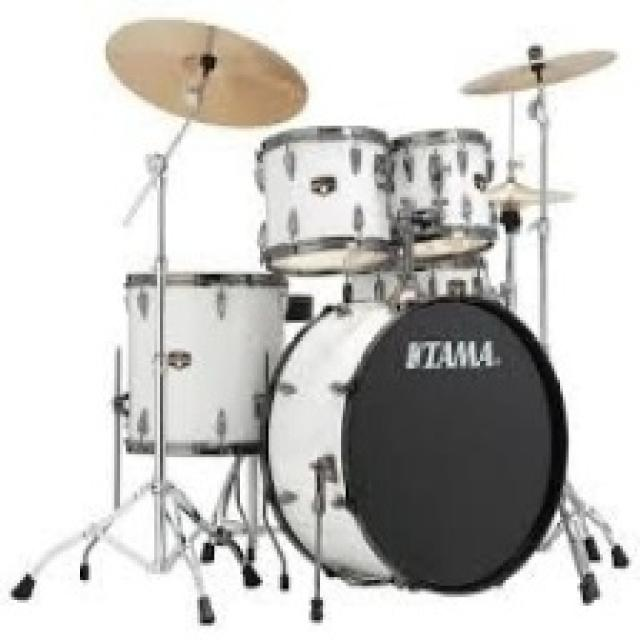drums: (7, 14, 638, 616)
